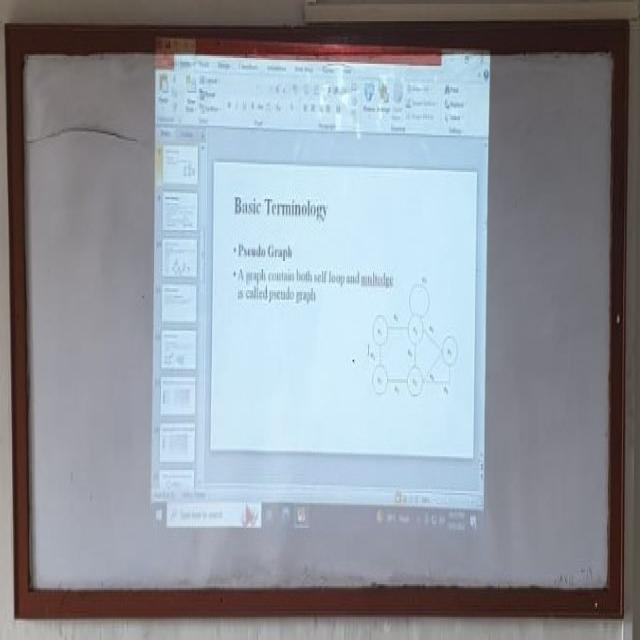Slide: (149, 39, 492, 543)
White-board: (18, 38, 619, 610)
